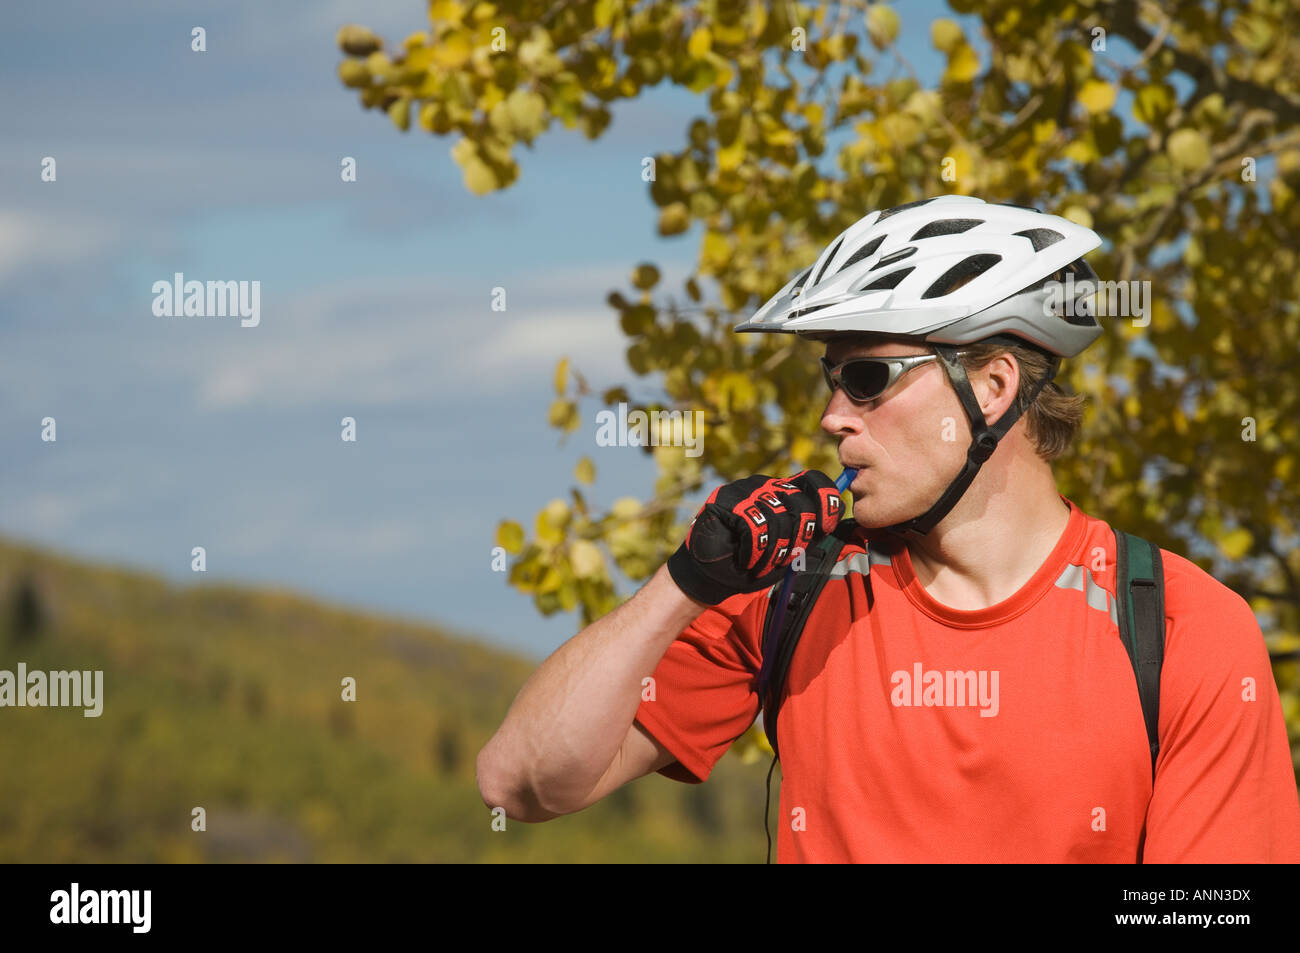helmet: (732, 195, 1104, 529)
